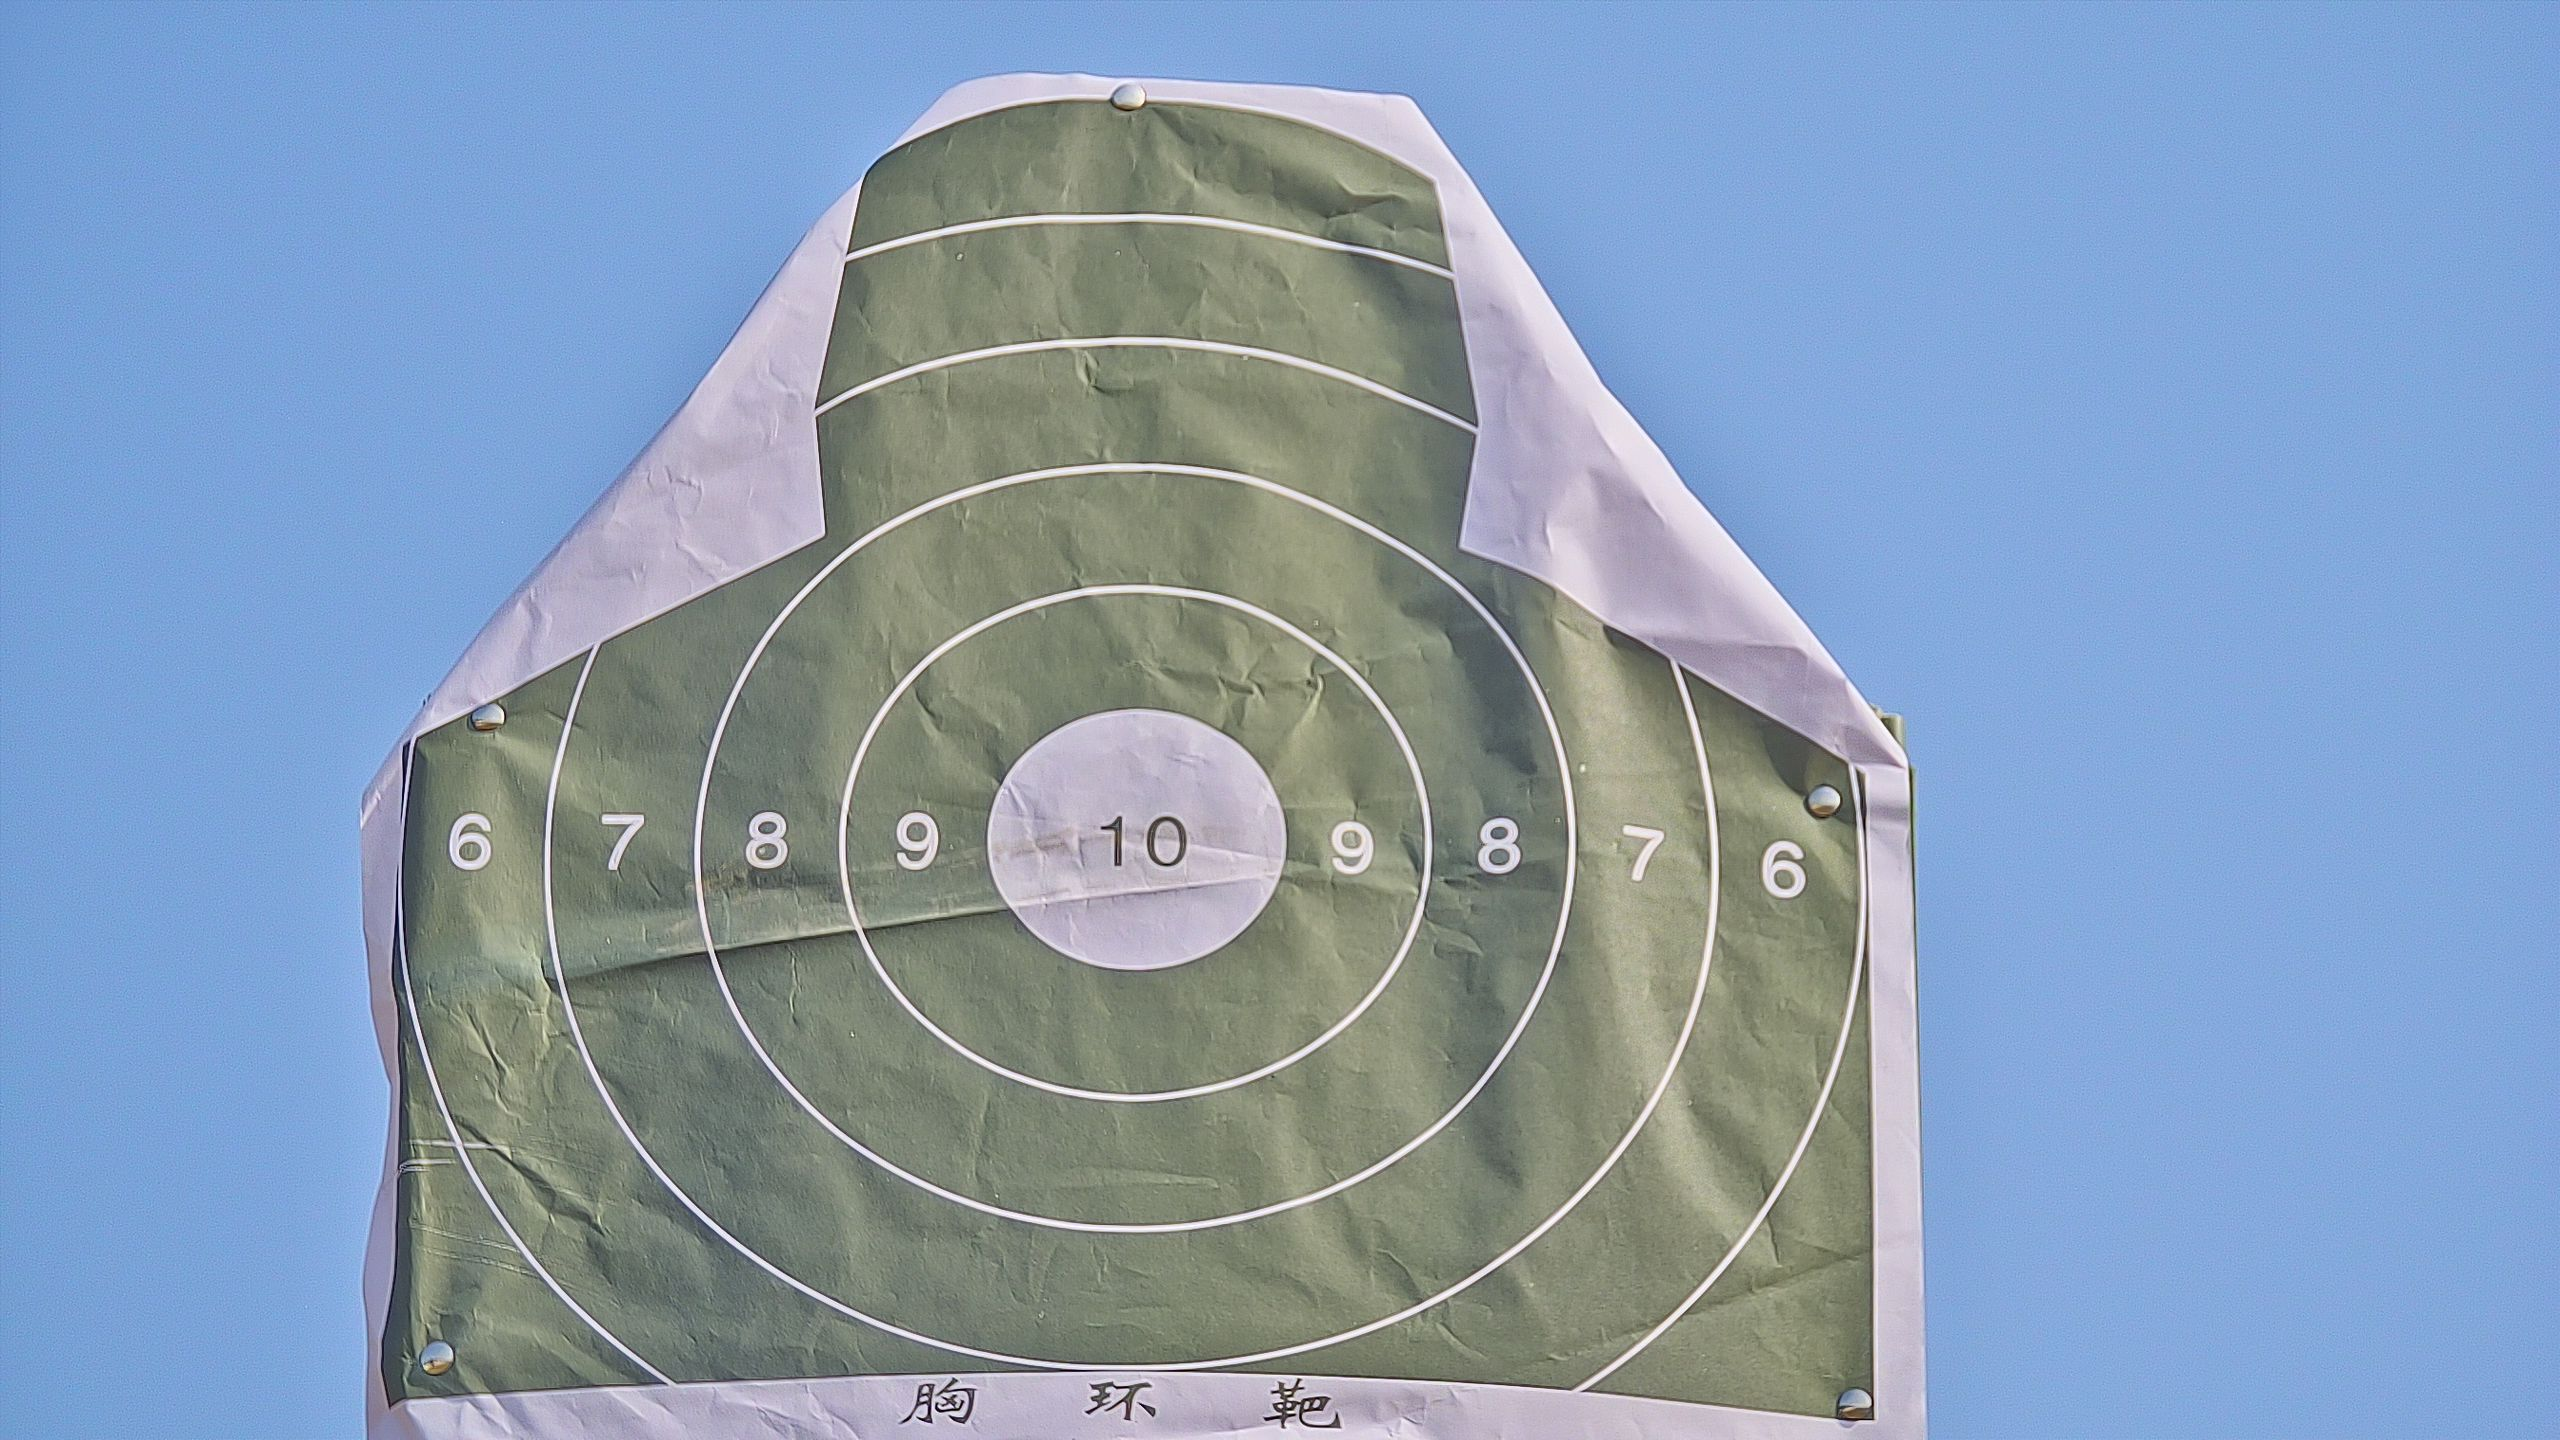kernel: (1134, 839, 1138, 844)
target: (397, 105, 1881, 1422)
ten: (988, 707, 1292, 976)
